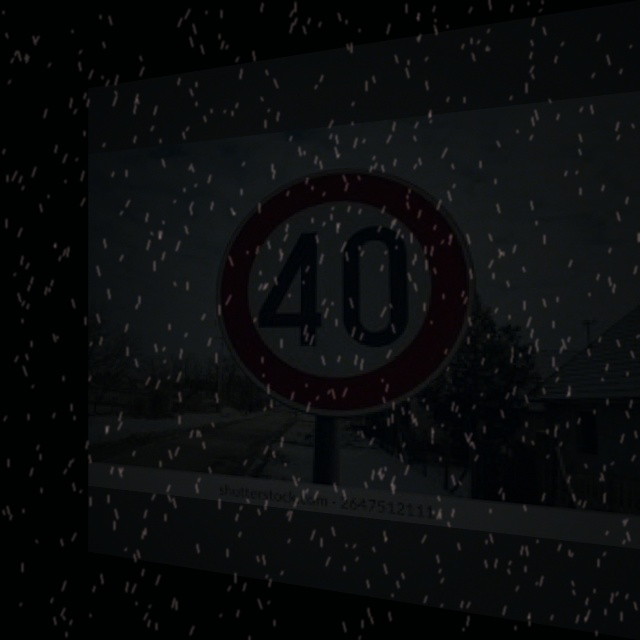Speed_Limit_40: (225, 160, 472, 418)
